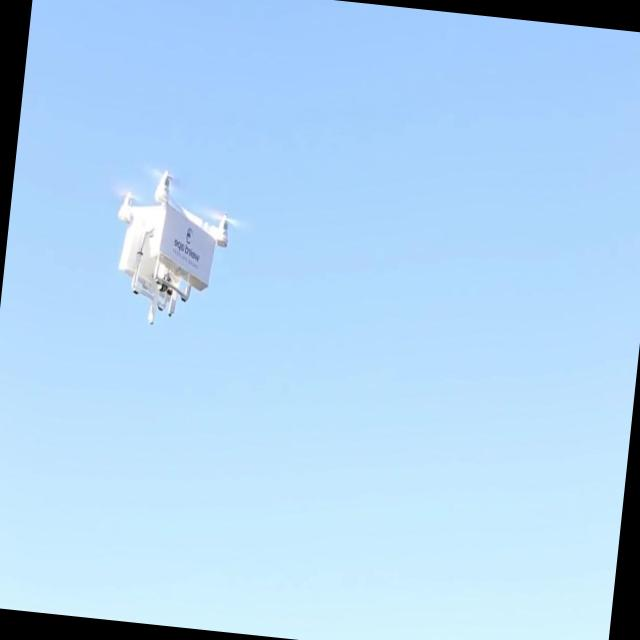drone: (107, 160, 235, 333)
